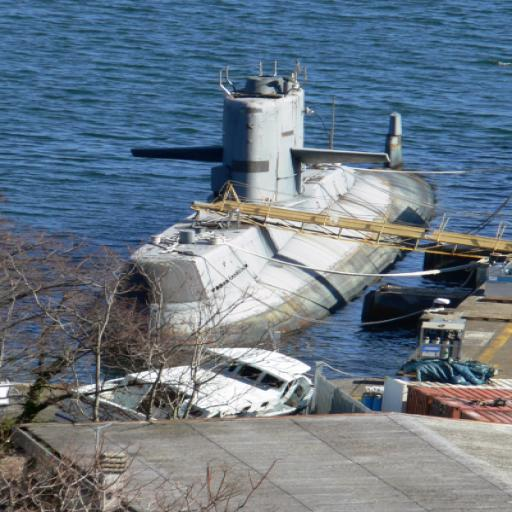submarine: (90, 45, 444, 380)
